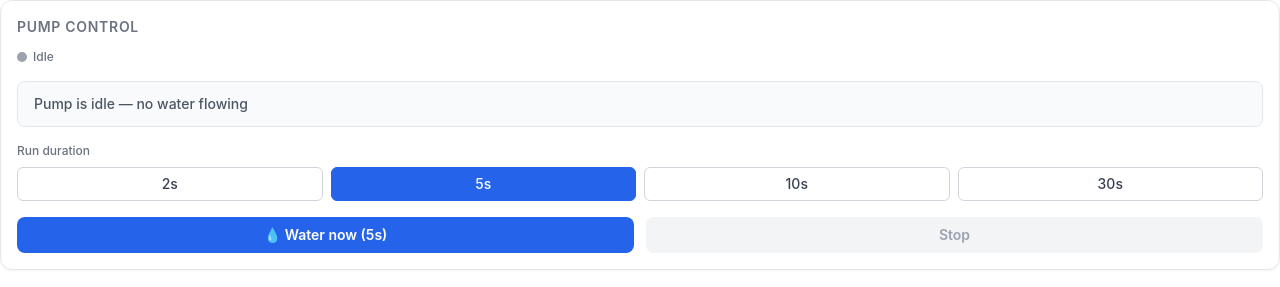
ControlPanel (MSW integration) › Water now → optimistic pending → confirmed running
The width and height of the screenshot is (1280, 287).
Expected: the text "Pump is idle — no water flowing" is shown, 17,81 -> 1263,127
Click the button "💧 Water now (5s)".
click(326, 235)  # box 17,217 -> 634,253
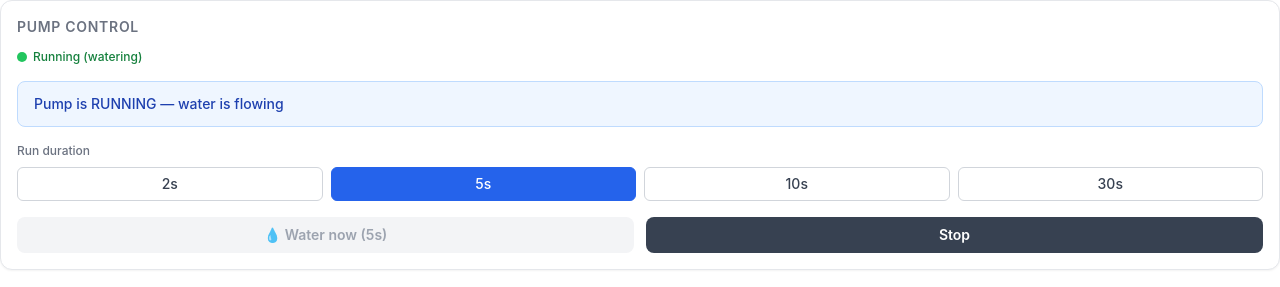
Now the text "Pump is RUNNING — water is flowing" is shown, box 17,81 -> 1263,127
